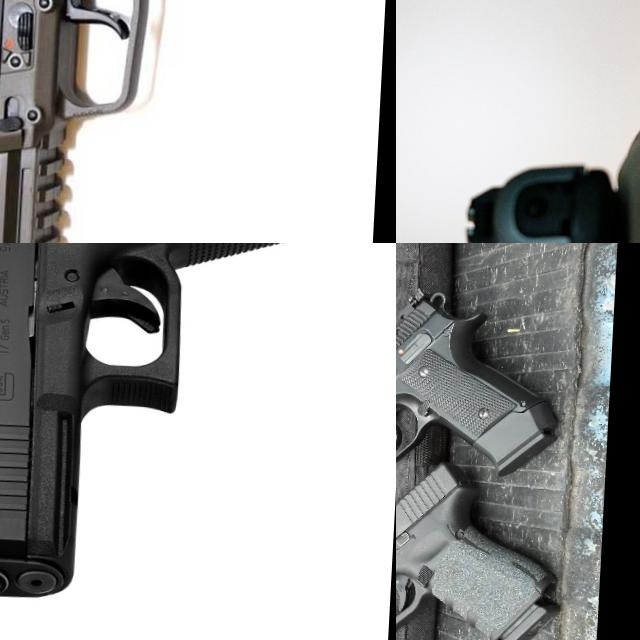handgun: (0, 243, 396, 627), (0, 0, 346, 243), (396, 279, 569, 479), (396, 451, 571, 640), (412, 147, 640, 243)
